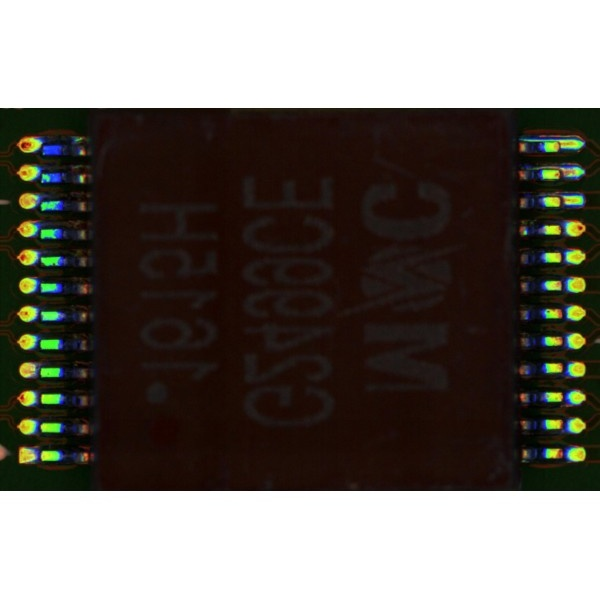Bad_podu: (552, 198, 575, 204), (551, 142, 571, 148)
Bad_qiaojiao: (519, 138, 561, 142), (552, 170, 573, 177), (530, 165, 560, 169)
